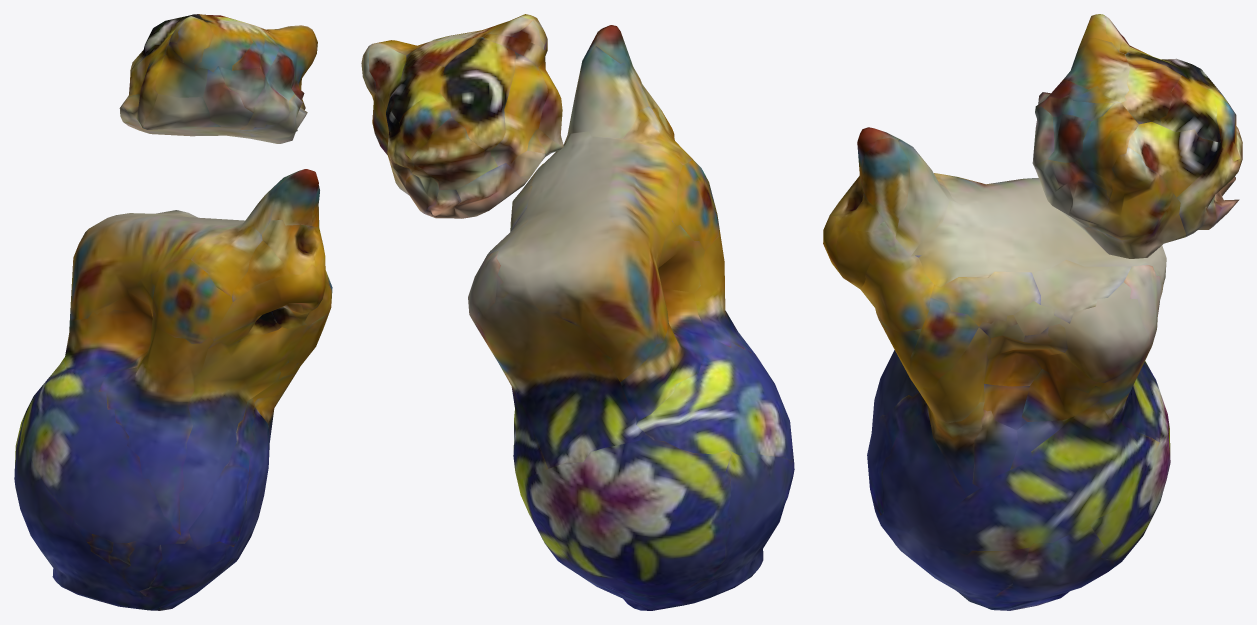
File: hall.glb
The picture shows the model from 3 angles, left to right: view 1: azimuth 30°, elevation 25°; view 2: azimuth 150°, elevation 25°; view 3: azimuth 270°, elevation 25°; orthographic projection. The views are drawn at different scales.
Size of the model in its own units: 0.5063 by 0.7851 by 0.4723.
1 material, 1 textured.
